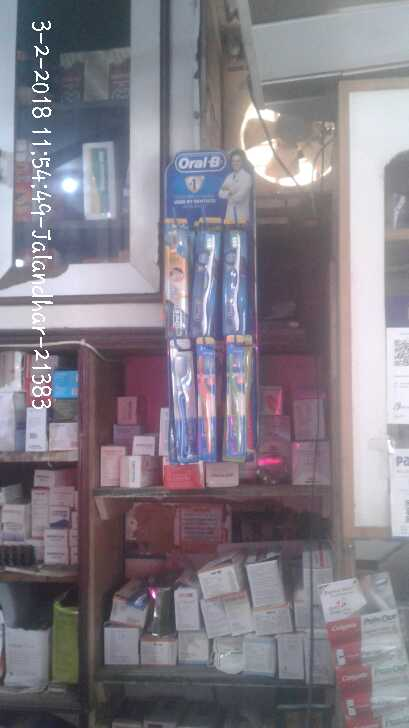oralb: (166, 353, 196, 465), (163, 226, 190, 337), (227, 342, 250, 459), (222, 228, 246, 339), (197, 349, 219, 459), (196, 227, 217, 336)
